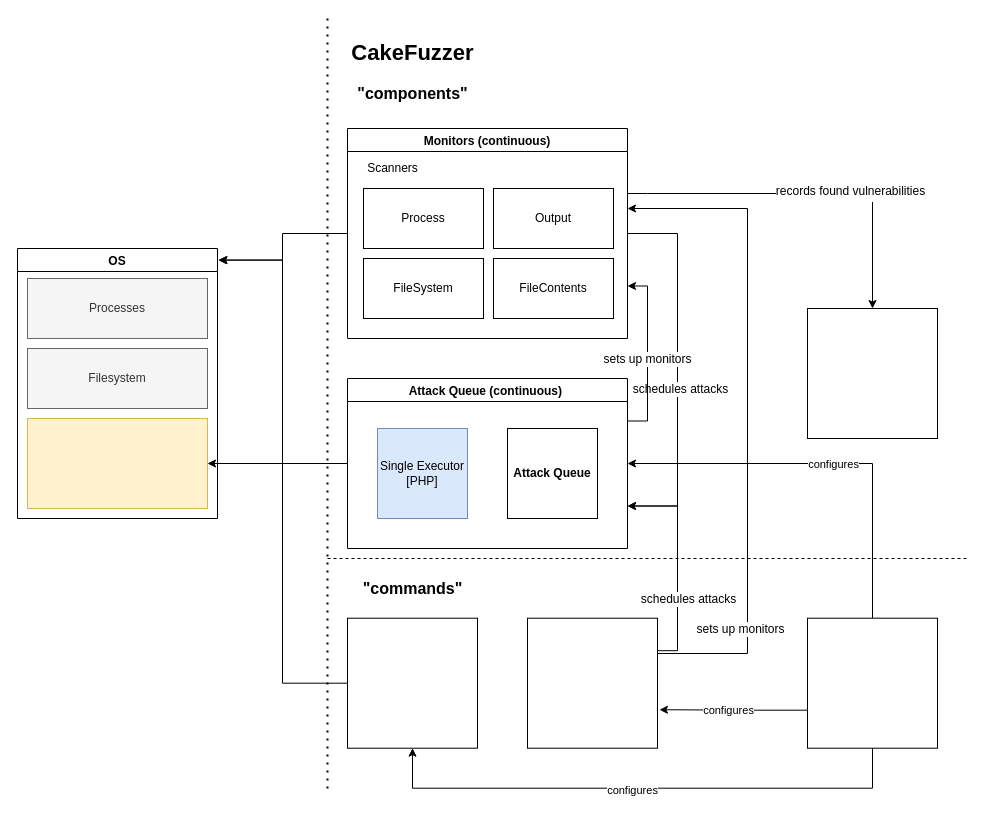
The diagram is 986 pixels wide and 814 high, and some of its shapes have lost their labels. Each missing label, with the centre of its shape:
CakePHP Web App: the point at 117,463
Configuration: the point at 872,682
Fuzzer (attack strategies): the point at 592,682
Instrumentation (on / off): the point at 412,682
Registry (continuous): the point at 872,373
